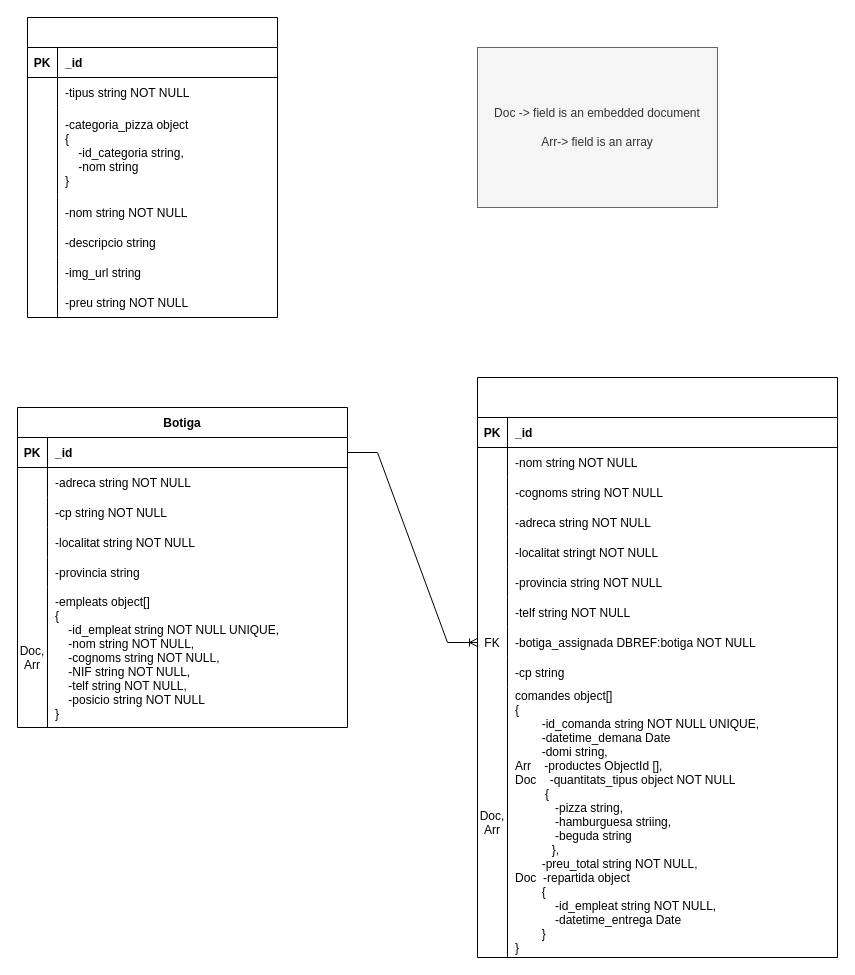
This 855x975 diagram has some shape labels left out. The box of each missing label's shape, as (x1, y1, x2, y2) in pixels:
client: (476, 376, 838, 958)
producte: (26, 16, 278, 318)
